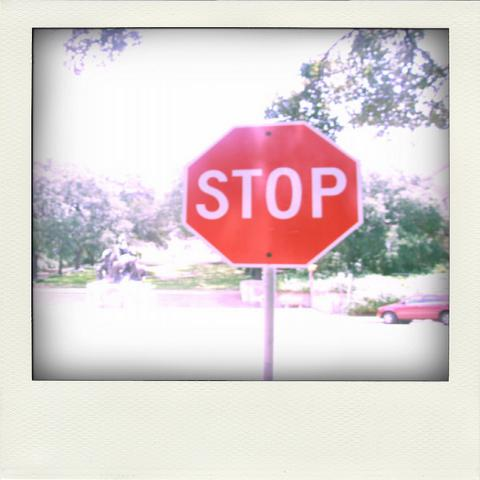car: (376, 294, 449, 325)
